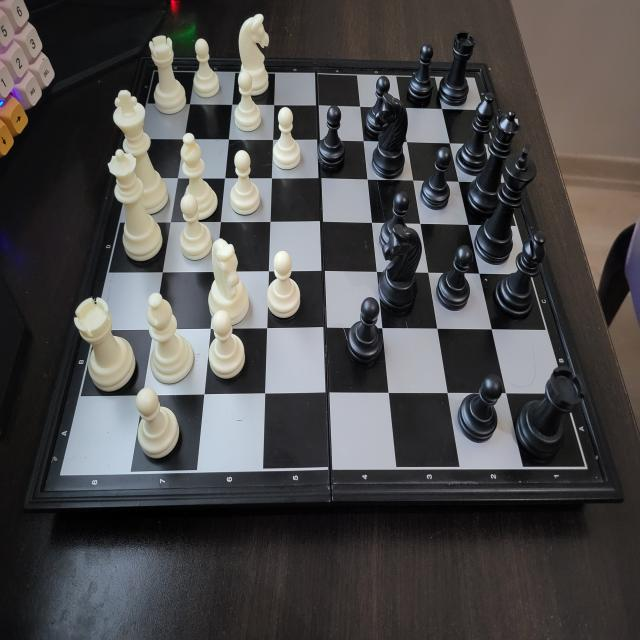black-bishop: (492, 230, 548, 322), (455, 90, 497, 176)
black-king: (475, 140, 540, 266)
black-knight: (377, 222, 423, 313), (370, 92, 410, 182)
black-pawn: (456, 372, 506, 448), (434, 240, 476, 316), (343, 295, 384, 370), (420, 143, 452, 212), (316, 104, 347, 174), (377, 190, 412, 252), (406, 42, 435, 105), (365, 73, 393, 136)
black-queen: (466, 109, 523, 215)
black-rook: (515, 361, 586, 463), (436, 27, 478, 107)
chess-board: (52, 44, 606, 490)
white-bishop: (145, 288, 195, 388), (179, 130, 217, 220)
white-king: (112, 87, 169, 211)
white-knight: (206, 235, 250, 318), (238, 12, 271, 96)
white-pawn: (133, 384, 183, 463), (205, 308, 247, 384), (264, 248, 303, 322), (228, 147, 262, 219), (178, 193, 213, 262), (231, 69, 262, 134), (272, 105, 302, 172), (192, 37, 221, 100)
white-queen: (106, 147, 164, 266)
white-rook: (73, 293, 138, 397), (148, 33, 187, 119)
